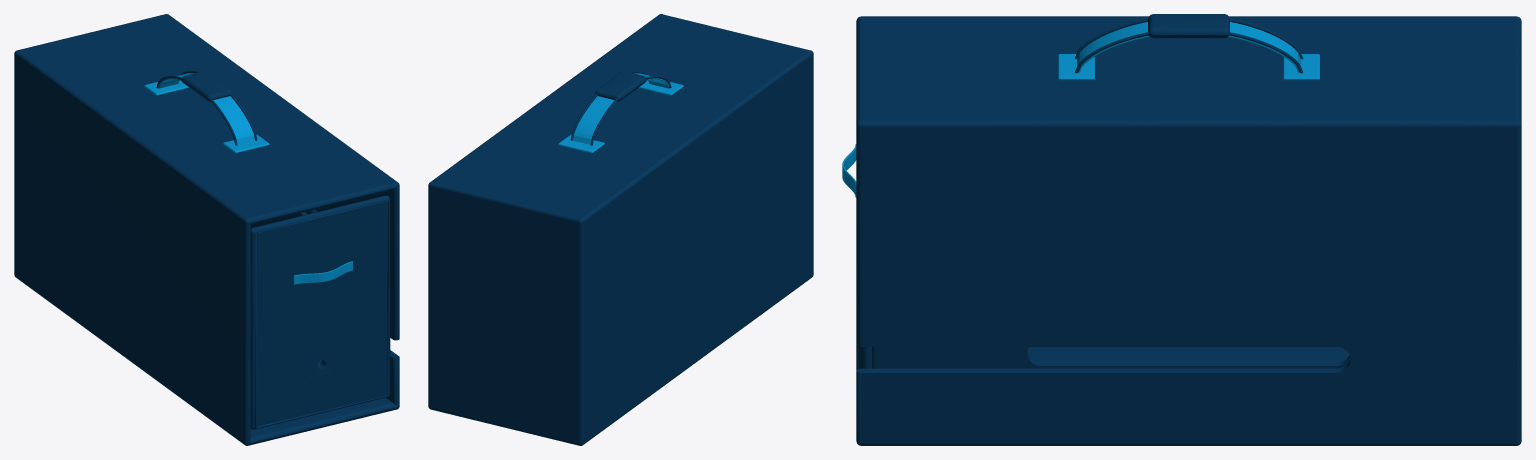
The model's file is belt-volume-3-storage.glb.
The picture shows the model from 3 angles, left to right: view 1: azimuth 30°, elevation 25°; view 2: azimuth 150°, elevation 25°; view 3: azimuth 270°, elevation 25°; orthographic projection. The views are drawn at different scales.
Parts seen in each view (by area): view 1: Cabinet_side, Cabinet_top, Drawer_front, Cabinet_side.001, Cabinet_bottom, Front_sewn_edge, Carry_handle_webbing, Carry_handle_padded_grip, Drawer_webbing_pull, Cabinet_back, Carry_handle_anchor; view 2: Cabinet_side, Cabinet_back, Cabinet_top, Carry_handle_webbing, Carry_handle_padded_grip, Cabinet_side.001, Carry_handle_anchor.001; view 3: Cabinet_side.001, Cabinet_top, Cabinet_bottom, Drawer_side.001, Carry_handle_padded_grip, Cabinet_back, Carry_handle_webbing, Carry_handle_anchor, Carry_handle_anchor.001, Carry_handle_binding.001.
Boxes of the visible parts, x1=… form: Cabinet_side: x1=15, y1=50, x2=250, y2=445; Cabinet_top: x1=15, y1=14, x2=397, y2=224; Drawer_front: x1=250, y1=195, x2=390, y2=429; Cabinet_side.001: x1=166, y1=14, x2=399, y2=409; Cabinet_bottom: x1=15, y1=275, x2=397, y2=445; Front_sewn_edge: x1=255, y1=200, x2=389, y2=428; Carry_handle_webbing: x1=158, y1=73, x2=254, y2=144; Carry_handle_padded_grip: x1=181, y1=71, x2=232, y2=101; Drawer_webbing_pull: x1=293, y1=261, x2=352, y2=284; Cabinet_back: x1=14, y1=14, x2=166, y2=275; Carry_handle_anchor: x1=223, y1=134, x2=269, y2=153; Cabinet_side: x1=579, y1=50, x2=813, y2=445; Cabinet_back: x1=428, y1=182, x2=583, y2=445; Cabinet_top: x1=432, y1=14, x2=812, y2=218; Carry_handle_webbing: x1=573, y1=73, x2=669, y2=144; Carry_handle_padded_grip: x1=595, y1=71, x2=646, y2=101; Cabinet_side.001: x1=428, y1=14, x2=661, y2=409; Carry_handle_anchor.001: x1=558, y1=134, x2=604, y2=153; Cabinet_side.001: x1=856, y1=120, x2=1521, y2=445; Cabinet_top: x1=856, y1=17, x2=1516, y2=128; Cabinet_bottom: x1=856, y1=345, x2=1515, y2=442; Drawer_side.001: x1=872, y1=347, x2=1350, y2=368; Carry_handle_padded_grip: x1=1148, y1=14, x2=1229, y2=38; Cabinet_back: x1=1516, y1=16, x2=1521, y2=445; Carry_handle_webbing: x1=1077, y1=22, x2=1300, y2=72; Carry_handle_anchor: x1=1058, y1=54, x2=1094, y2=80; Carry_handle_anchor.001: x1=1283, y1=54, x2=1319, y2=80; Carry_handle_binding.001: x1=1075, y1=32, x2=1302, y2=73.
Size of what is drawn, in the model's own units: 0.127 by 0.204 by 0.3372.
Materials: 3 (3 with a texture image).
